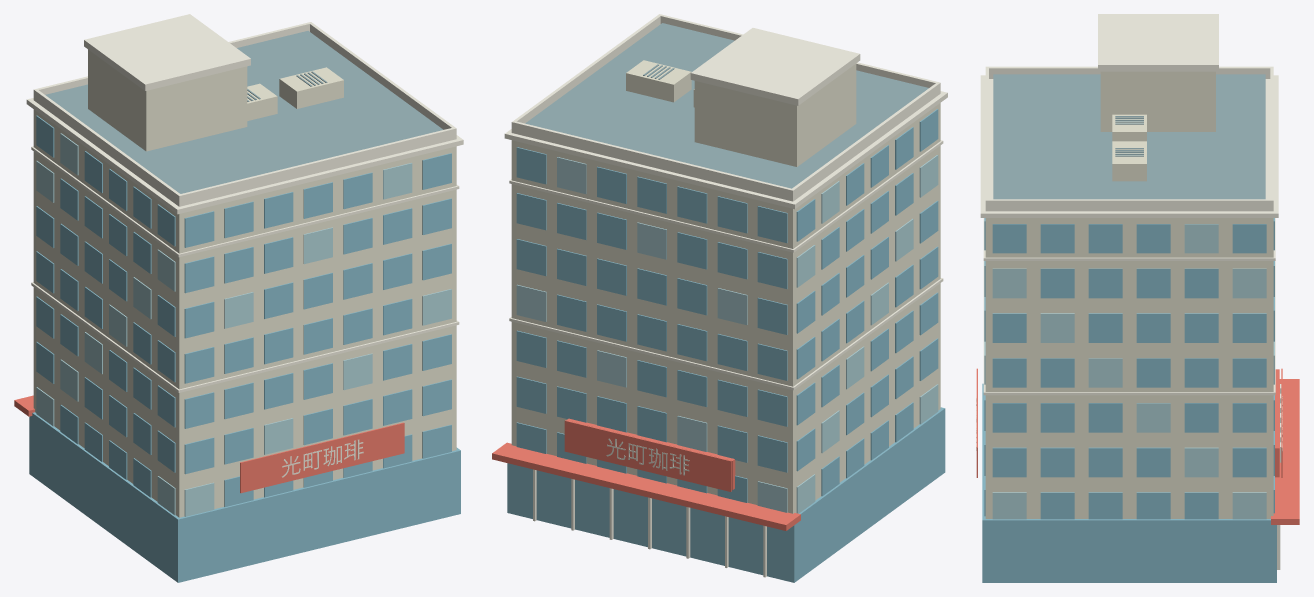
The model's file is building-d.glb.
3 renders of one model, left to right at view 1: azimuth 30°, elevation 25°; view 2: azimuth 150°, elevation 25°; view 3: azimuth 270°, elevation 25°, orthographic. The views are drawn at different scales.
Visible parts, largest first — view 1: Sora_Building_D_Surface; view 2: Sora_Building_D_Surface; view 3: Sora_Building_D_Surface.
Part boxes in pixels (x1,y1,x2,y2): Sora_Building_D_Surface: [14, 14, 463, 582]; Sora_Building_D_Surface: [492, 14, 947, 582]; Sora_Building_D_Surface: [976, 14, 1299, 582].
Bounding box in the file's own units: 23 × 34.05 × 22.44.
